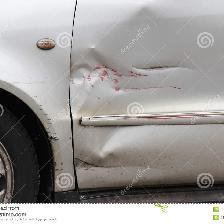door_dent: (35, 29, 196, 130)
